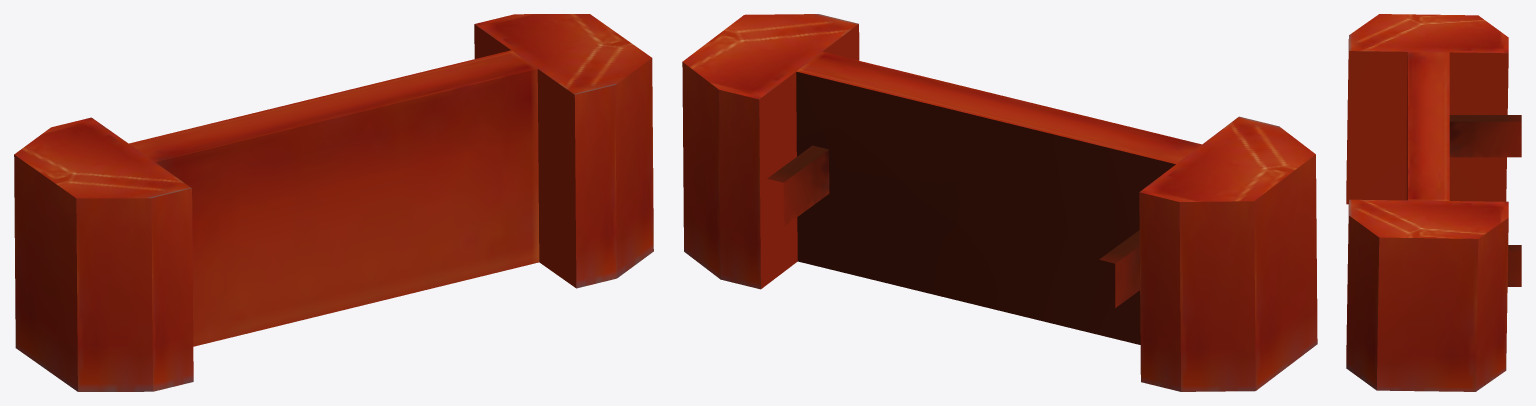
Rendered from Truck 5 Spoiler.glb.
3 renders of one model, left to right at view 1: azimuth 30°, elevation 25°; view 2: azimuth 150°, elevation 25°; view 3: azimuth 270°, elevation 25°, orthographic. The views are drawn at different scales.
Visible parts, largest first — view 1: spoiler; view 2: spoiler; view 3: spoiler.
Boxes of the visible parts, <box> form: spoiler: <box>14,14,653,391</box>; spoiler: <box>682,14,1317,391</box>; spoiler: <box>1346,14,1521,391</box>.
Size of the model in its own units: 1.66 by 0.536 by 0.5483.
1 material, 1 textured.
